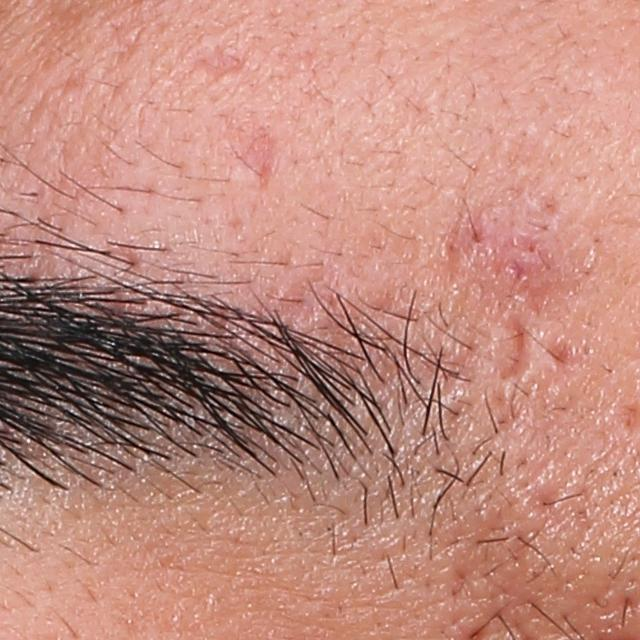atrophic_scar: (481, 313, 534, 377), (239, 124, 283, 192), (185, 47, 247, 90)
